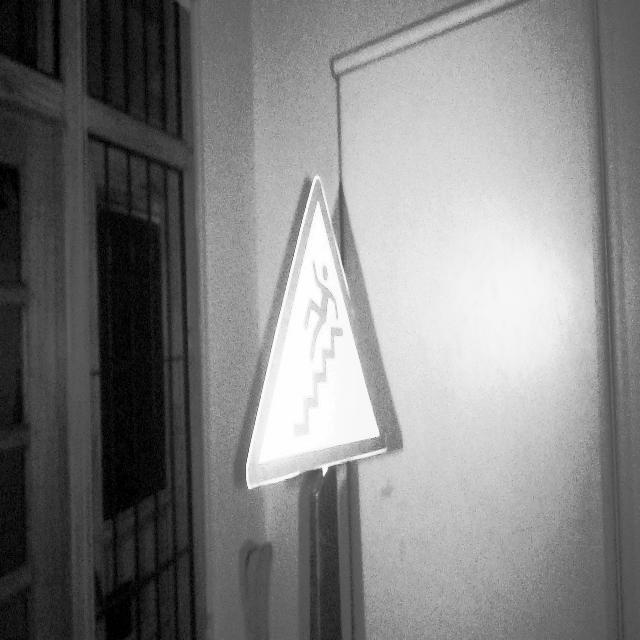Sign: (245, 173, 389, 491)
